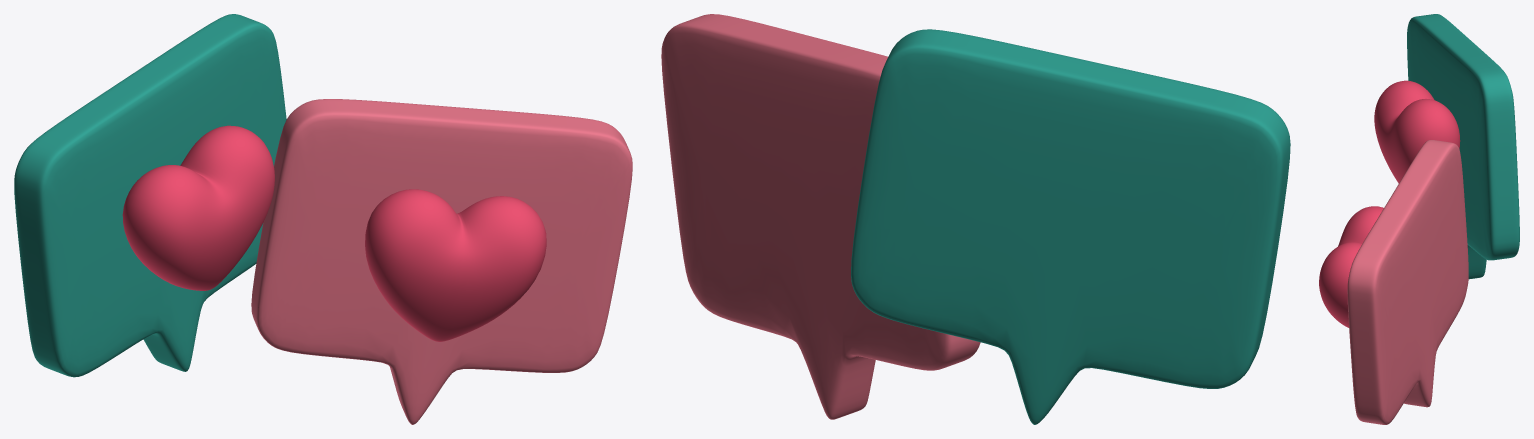
Rendered from chat-bubble-3d-animated-icon-1367445273861.glb.
The picture shows the model from 3 angles, left to right: view 1: azimuth 30°, elevation 25°; view 2: azimuth 150°, elevation 25°; view 3: azimuth 270°, elevation 25°; orthographic projection. The views are drawn at different scales.
Visible parts, largest first — view 1: chat buble 1, chat buble 2, heart 1, heart 2; view 2: chat buble 2, chat buble 1; view 3: chat buble 1, chat buble 2, heart 2, heart 1.
Part boxes in pixels (x1,y1,x2,y2): chat buble 1: (251, 99, 632, 424); chat buble 2: (14, 14, 286, 377); heart 1: (365, 189, 546, 341); heart 2: (122, 125, 274, 290); chat buble 2: (851, 29, 1290, 424); chat buble 1: (661, 14, 980, 419); chat buble 1: (1347, 140, 1468, 424); chat buble 2: (1407, 14, 1519, 279); heart 2: (1374, 80, 1460, 183); heart 1: (1319, 206, 1383, 327).
Size of the model in its own units: 2.95 by 1.93 by 1.22.
